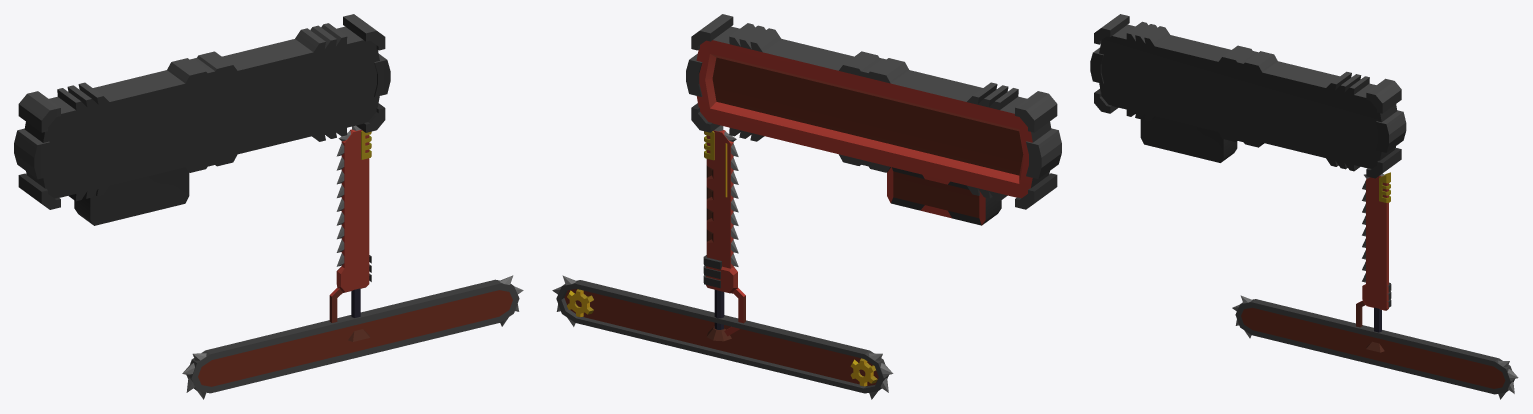
Rendered from firerate_t2_a4.fbx.
The picture shows the model from 3 angles, left to right: view 1: azimuth 30°, elevation 25°; view 2: azimuth 150°, elevation 25°; view 3: azimuth 330°, elevation 25°; orthographic projection. The views are drawn at different scales.
Visible parts, largest first — view 1: broad_t2_a4, firerate_t2_a4_m_lock, firerate_t2_a4_m; view 2: broad_t2_a4, firerate_t2_a4_m_lock, firerate_t2_a4_m; view 3: broad_t2_a4, firerate_t2_a4_m_lock, firerate_t2_a4_m.
Part boxes in pixels (x1,y1,x2,y2): broad_t2_a4: [14, 14, 390, 225]; firerate_t2_a4_m_lock: [182, 275, 523, 399]; firerate_t2_a4_m: [329, 125, 371, 341]; broad_t2_a4: [686, 14, 1061, 225]; firerate_t2_a4_m_lock: [552, 275, 893, 399]; firerate_t2_a4_m: [703, 125, 745, 341]; broad_t2_a4: [1090, 14, 1406, 178]; firerate_t2_a4_m_lock: [1232, 295, 1518, 399]; firerate_t2_a4_m: [1356, 172, 1391, 352].
Size of the model in its own units: 854 by 553 by 67.75.
